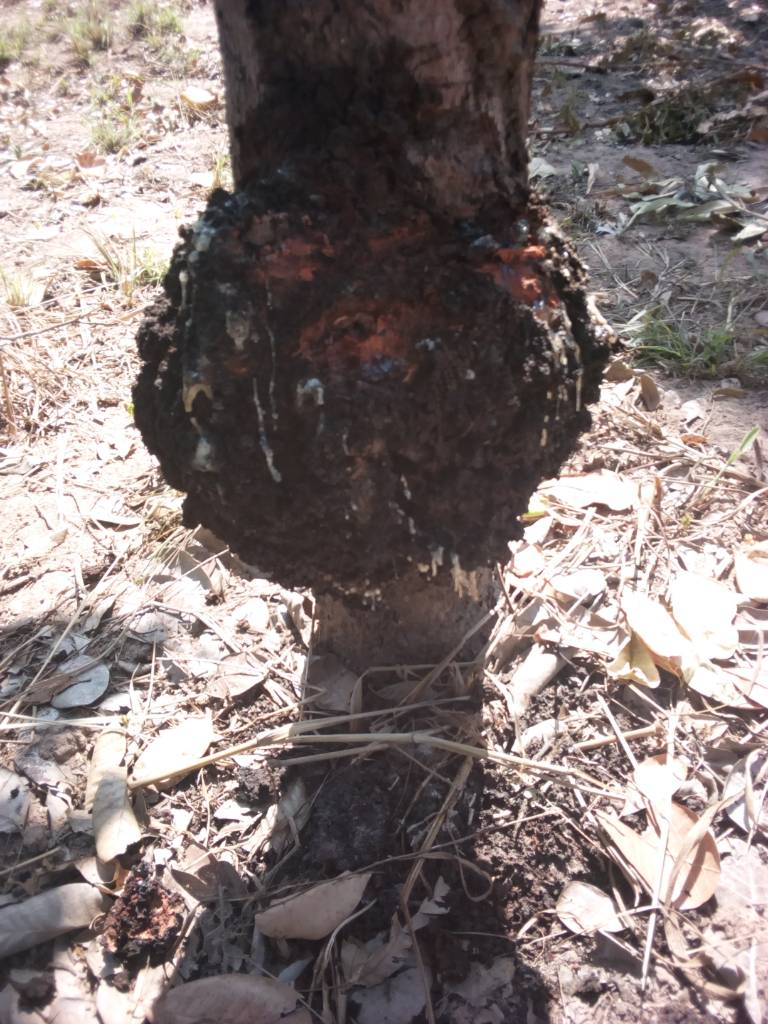Termites: (132, 207, 604, 589)
